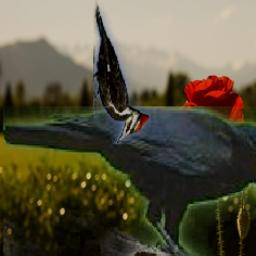Crow: (2, 107, 256, 256)
Woodpecker: (92, 0, 150, 145)
